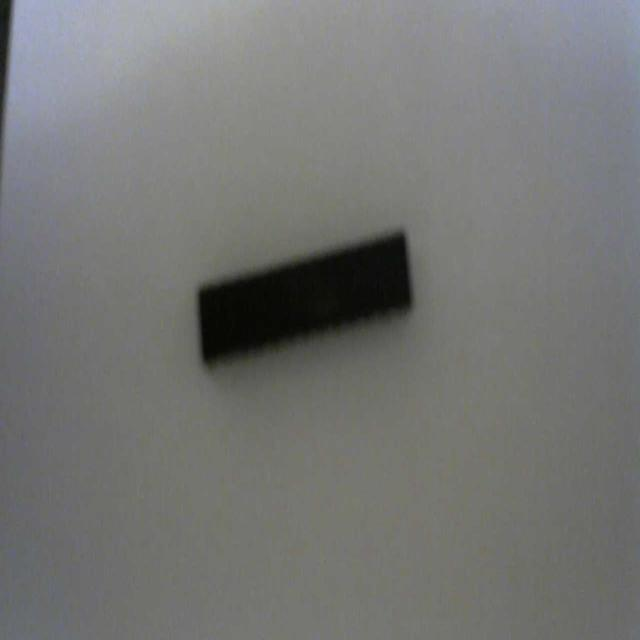atmega: (195, 223, 415, 372)
